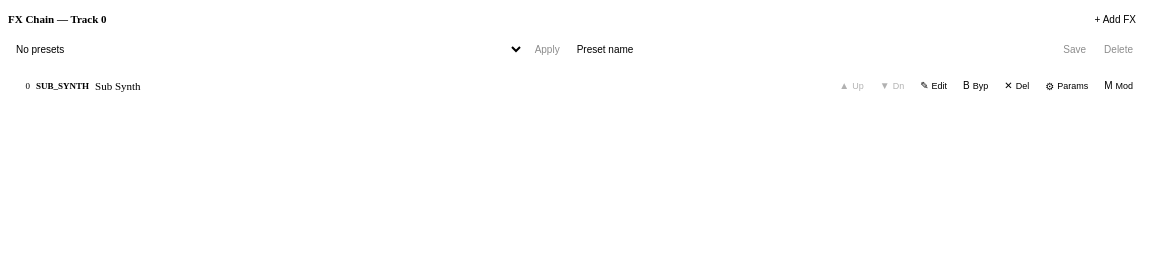
Test: FXChain › sub_synth modulation presets › shows all six modulation presets for a sub_synth slot
Step 1. Click the button titled "SubSynth modulation presets" → (1119, 86), box x1=1099 y1=76 x2=1138 y2=96
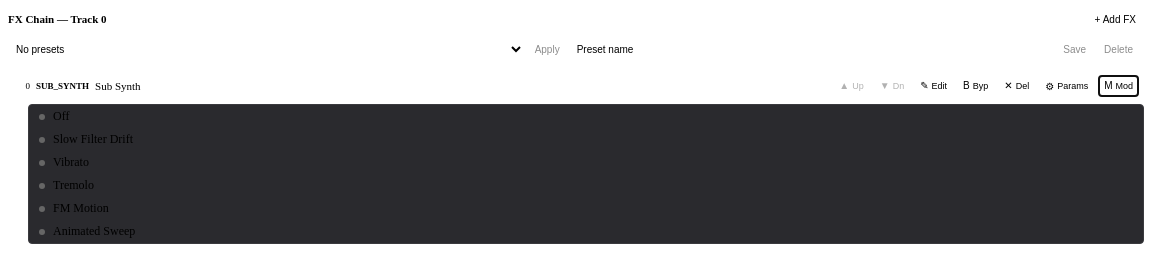
Check: the text "Off" is shown, box x1=53 y1=109 x2=70 y2=124
Check: the text "Slow Filter Drift" is shown, box x1=53 y1=132 x2=133 y2=147
Check: the text "Vibrato" is shown, box x1=53 y1=155 x2=89 y2=170
